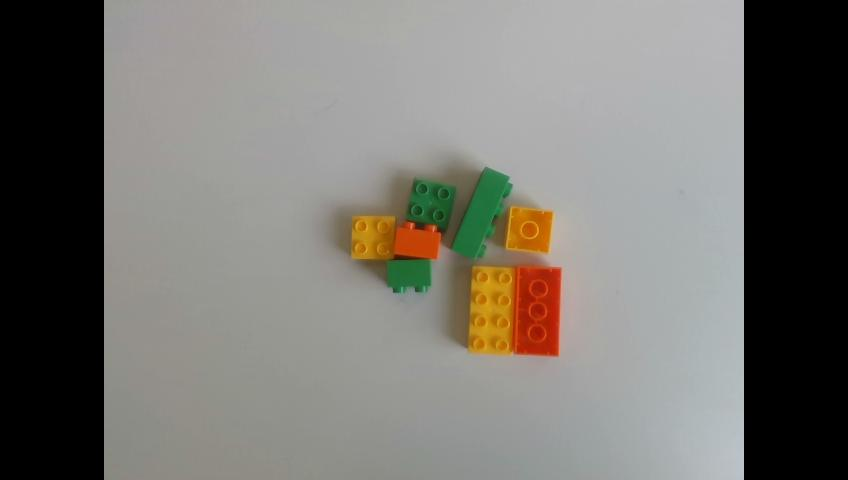2x2_green: (402, 179, 457, 229), (386, 259, 433, 295)
2x2_orange: (395, 222, 441, 260)
2x2_yellow: (505, 205, 553, 253), (349, 217, 397, 261)
4x2_green: (451, 165, 515, 261)
4x2_orange: (514, 265, 562, 359)
4x2_yellow: (465, 264, 517, 355)
